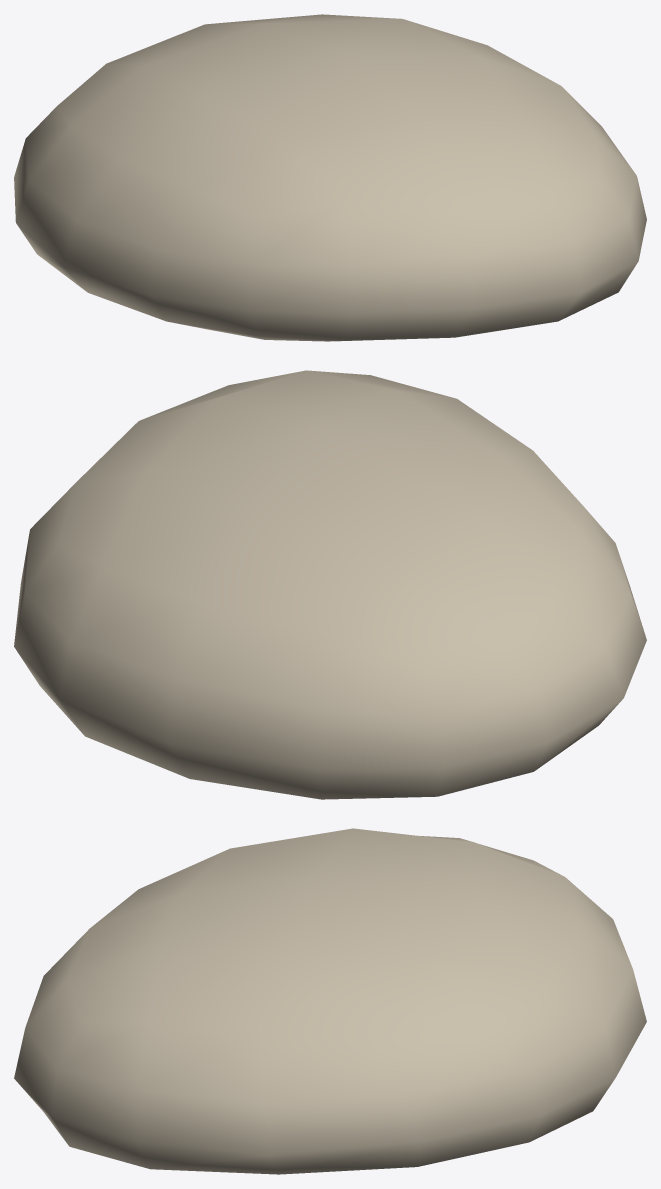
The model's file is itch_assetquest_pond_pebble_2c.glb.
3 renders of one model, top to bottom at view 1: azimuth 30°, elevation 25°; view 2: azimuth 150°, elevation 25°; view 3: azimuth 270°, elevation 25°, orthographic. The views are drawn at different scales.
Parts seen in each view (by area): view 1: Pebble_2c; view 2: Pebble_2c; view 3: Pebble_2c.
Part boxes in pixels (x1,y1,x2,y2): Pebble_2c: [14, 14, 646, 341]; Pebble_2c: [14, 370, 646, 799]; Pebble_2c: [14, 828, 646, 1174].
Bounding box in the file's own units: 0.4076 × 0.1705 × 0.42.
